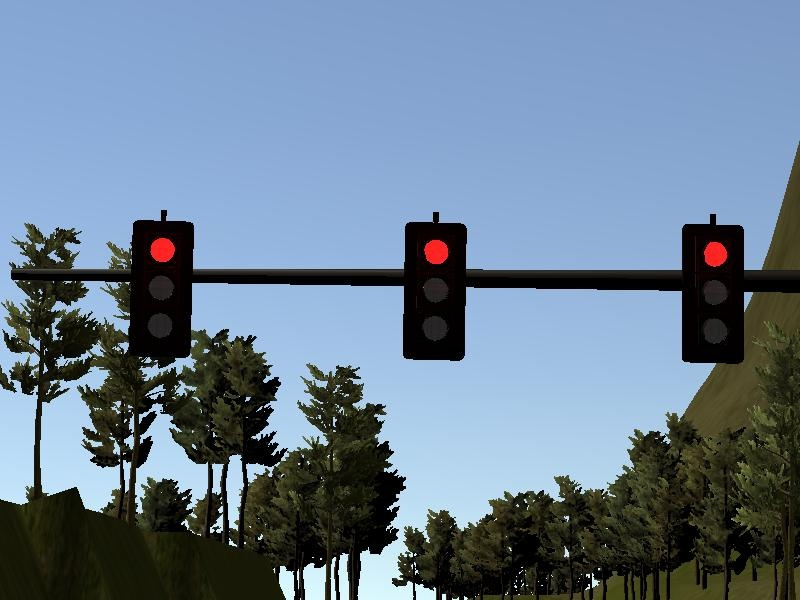RED: (681, 224, 744, 363), (403, 222, 466, 361), (129, 221, 192, 360)
